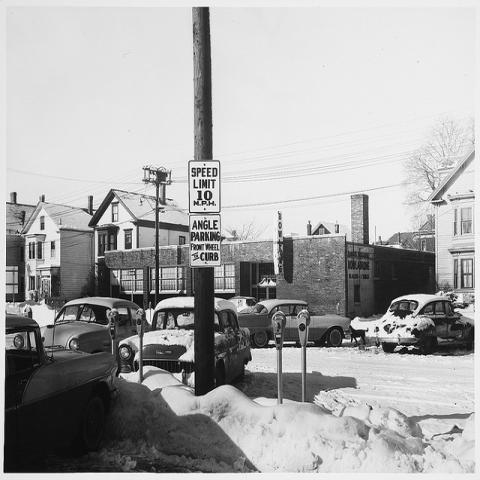car: (6, 318, 120, 466), (40, 295, 151, 354), (371, 294, 474, 354), (238, 299, 351, 348), (142, 295, 193, 372), (214, 298, 252, 388), (228, 294, 260, 313)
